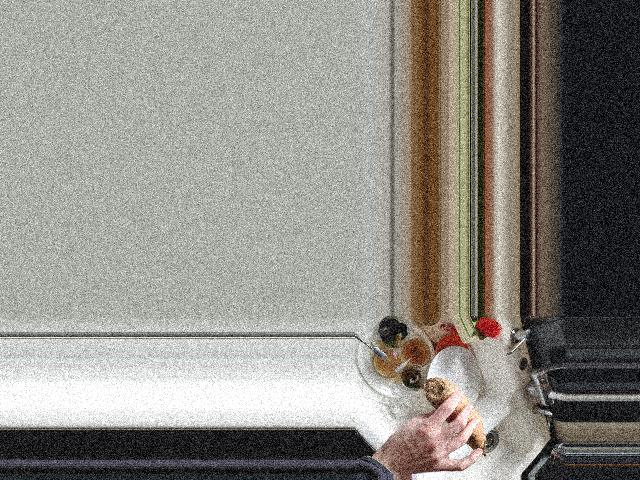sweet_potato: (424, 380, 486, 458)
